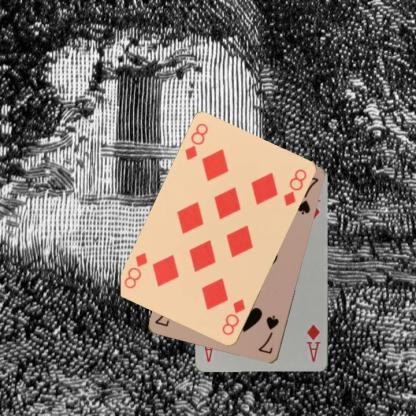7s: (256, 313, 280, 356)
8d: (219, 296, 247, 338), (182, 121, 210, 162)
Ad: (304, 322, 322, 363)
